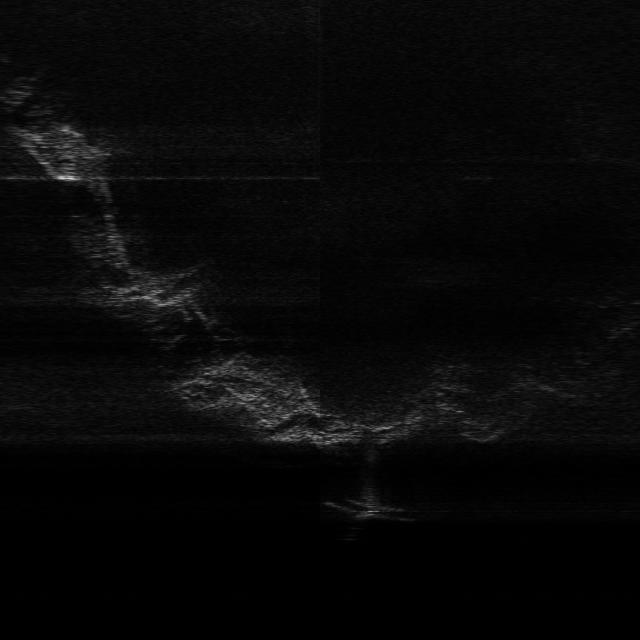plane: (319, 494, 417, 526)
